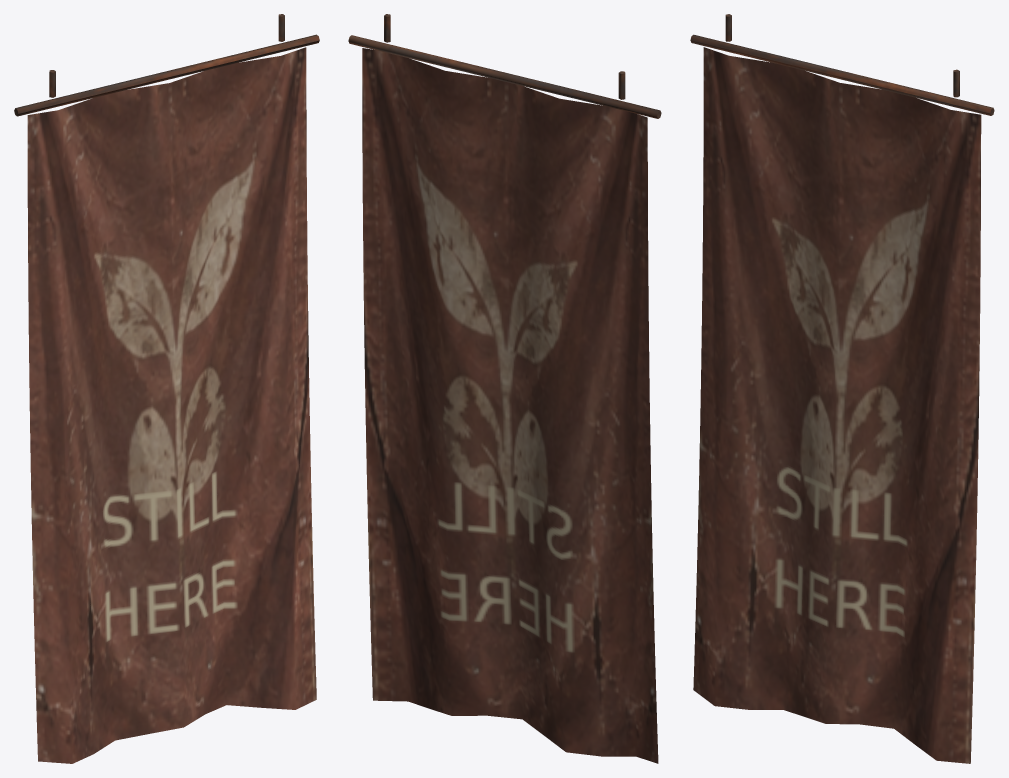
File: Banner_Still_Here.glb
3 views of the same model, side by side, from view 1: azimuth 30°, elevation 25°; view 2: azimuth 150°, elevation 25°; view 3: azimuth 330°, elevation 25° (orthographic). The views are drawn at different scales.
Parts seen in each view (by area): view 1: Banner_Still_Here; view 2: Banner_Still_Here; view 3: Banner_Still_Here.
Part boxes in pixels (left/top/right/bottom): Banner_Still_Here: left=14, top=14, right=319, bottom=763; Banner_Still_Here: left=348, top=14, right=661, bottom=763; Banner_Still_Here: left=690, top=14, right=994, bottom=763.
Size of the model in its own units: 2 by 4.33 by 0.2292.
Materials: 1 (1 with a texture image).
